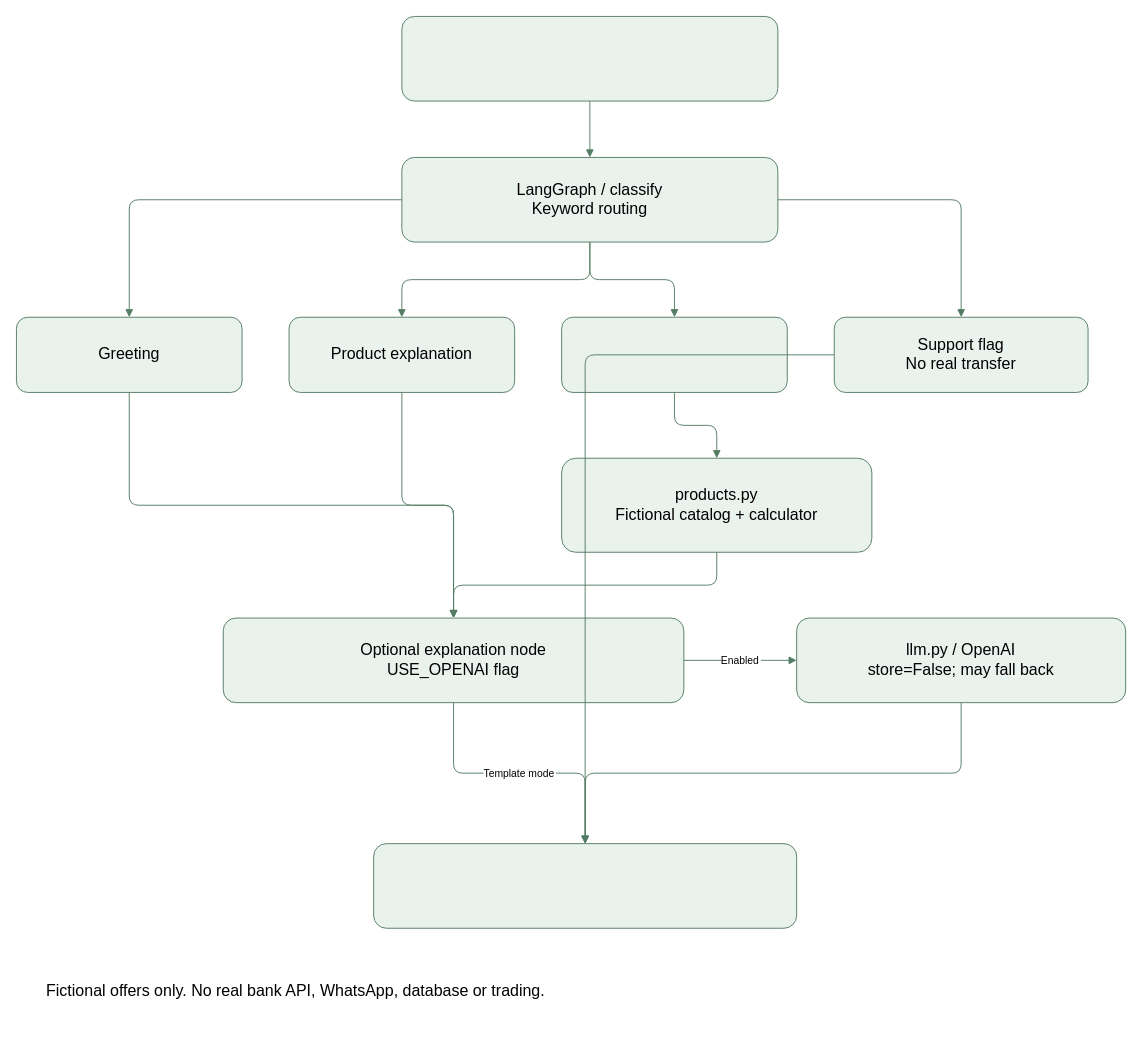
The diagram is 1142 pixels wide and 1039 high, and some of its shapes have lost their labels. The centre of each missing label's shape, as x and y in pixels:
"FastAPI / main.py Validated request" goes at point 589,58.
"Python simulation" goes at point 674,354.
"Typed JSON response Fresh state per request" goes at point 585,885.
